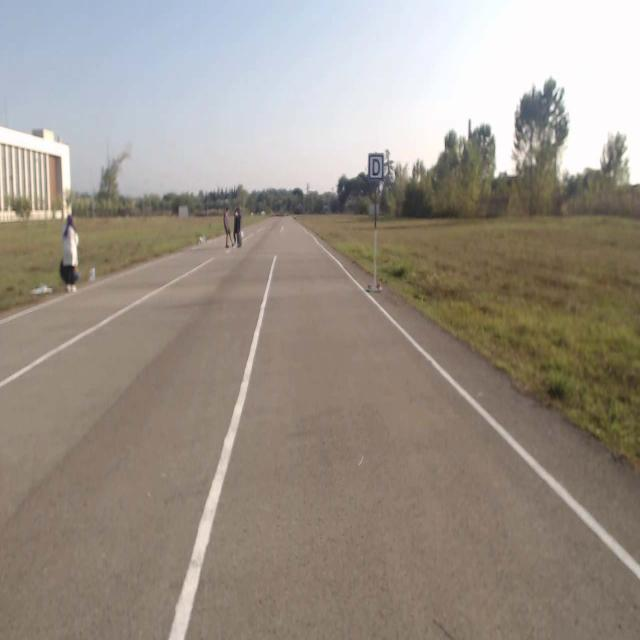durak: (368, 154, 384, 180)
